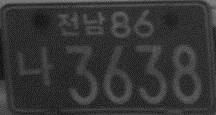3: (64, 44, 98, 106), (133, 43, 167, 104)
6: (102, 44, 133, 106), (133, 10, 154, 38)
8: (170, 43, 203, 105), (108, 10, 130, 39)
나: (15, 45, 56, 89)
전남_O: (57, 11, 106, 37)
